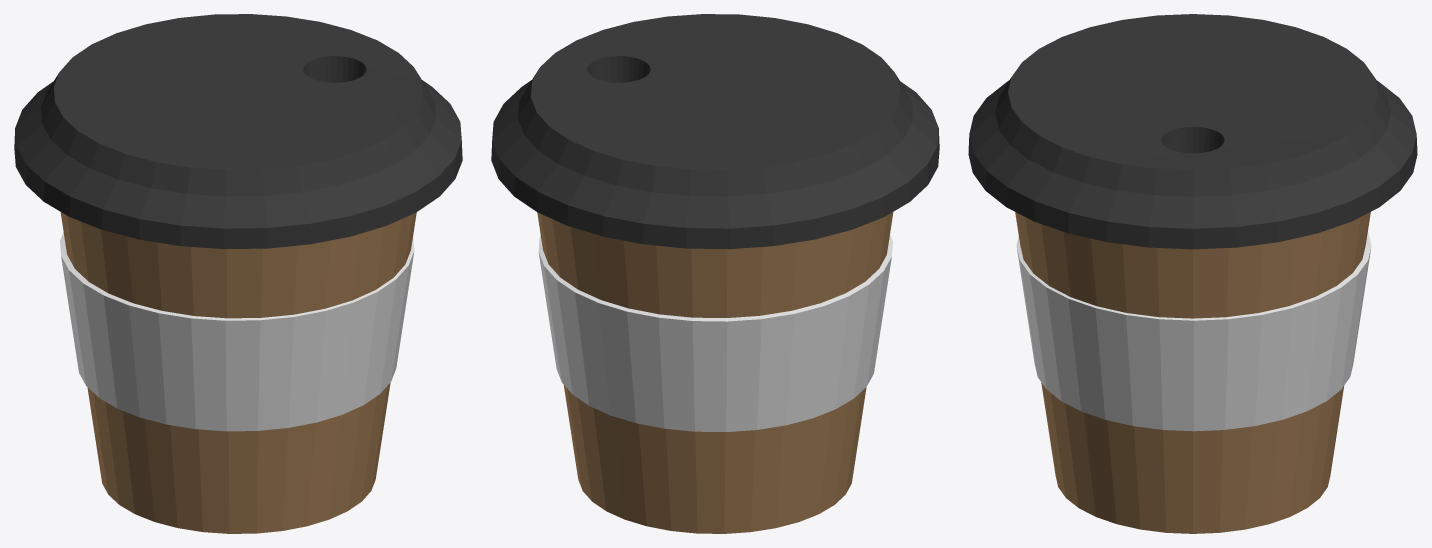
The model's file is Coffee.fbx.
The picture shows the model from 3 angles, left to right: view 1: azimuth 30°, elevation 25°; view 2: azimuth 150°, elevation 25°; view 3: azimuth 270°, elevation 25°; orthographic projection.
Visible parts, largest first — view 1: Cylinder; view 2: Cylinder; view 3: Cylinder.
Boxes of the visible parts, box(x1,y1,x2,y2) form: Cylinder: box(14, 14, 462, 533); Cylinder: box(491, 14, 939, 533); Cylinder: box(968, 14, 1417, 533).
Size of the model in its own units: 92.98 by 87.67 by 92.98.
